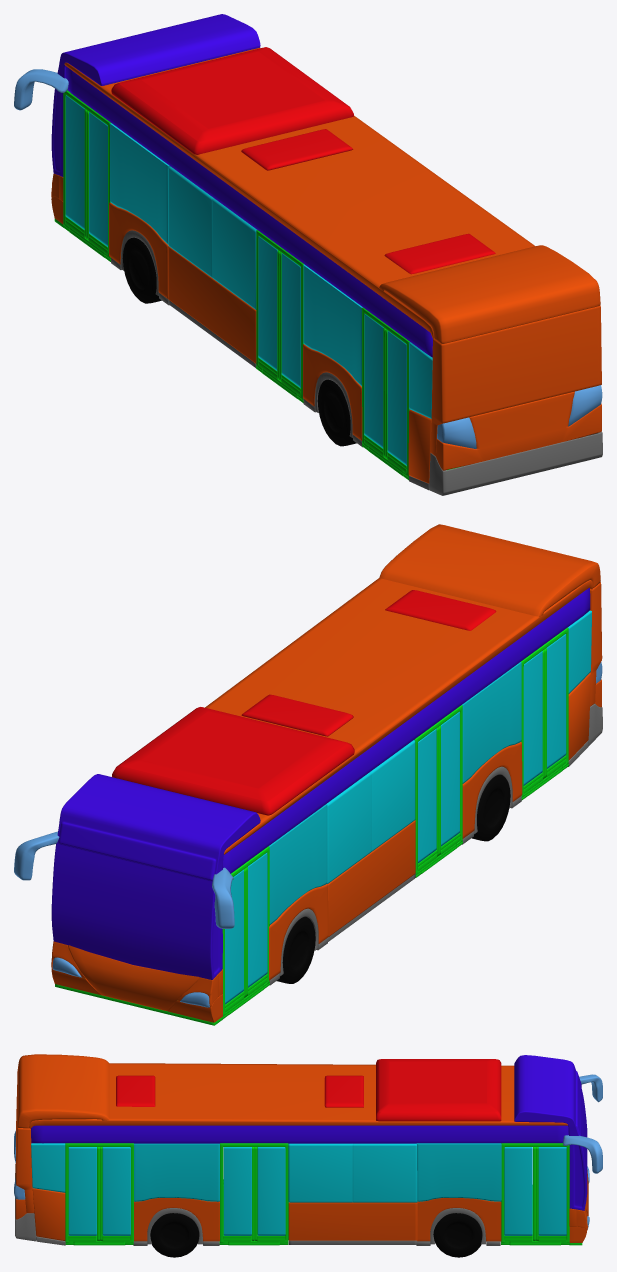
File: Bus.fbx
3 renders of one model, top to bottom at view 1: azimuth 30°, elevation 25°; view 2: azimuth 150°, elevation 25°; view 3: azimuth 270°, elevation 25°, orthographic. The views are drawn at different scales.
Parts seen in each view (by area): view 1: Cube.022-, Cube.023, Cube.010-, Cube.012-, Cube, Cube.036, Cube.061-, Cube.00-, Cube.021, Cube.006, Cube.011-, Cube.034 (+20 smaller); view 2: Cube.036, Cube.022-, Cube.023, Cube.012-, Cube, Cube.00-, Cube.006, Cube.021, Cube.033-, Cube.003, Cube.034, Cube.031 (+21 smaller); view 3: Cube.022-, Cube, Cube.023, Cube.012-, Cube.036, Cube.00-, Cube.006, Cube.021, Cube.034, Cube.003, Cube.013, Cube.040 (+23 smaller).
Boxes of the visible parts, box(x1,y1,x2,y2) form: Cube.022-: box(64, 47, 535, 338); Cube.023: box(111, 47, 353, 154); Cube.010-: box(430, 305, 601, 456); Cube.012-: box(379, 245, 600, 343); Cube: box(66, 66, 432, 357); Cube.036: box(51, 14, 260, 176); Cube.061-: box(436, 391, 601, 470); Cube.00-: box(168, 246, 256, 363); Cube.021: box(109, 123, 169, 244); Cube.006: box(303, 264, 362, 386); Cube.011-: box(429, 432, 602, 495); Cube.034: box(168, 166, 213, 277); Cube.036: box(51, 774, 260, 979); Cube.022-: box(205, 577, 593, 854); Cube.023: box(112, 707, 354, 815); Cube.012-: box(379, 524, 600, 616); Cube: box(223, 587, 590, 873); Cube.00-: box(327, 820, 415, 936); Cube.006: box(461, 662, 521, 783); Cube.021: box(269, 804, 327, 924); Cube.033-: box(68, 945, 199, 1010); Cube.003: box(370, 740, 415, 851); Cube.034: box(327, 772, 371, 883); Cube.031: box(241, 694, 353, 736); Cube.022-: box(29, 1063, 567, 1128); Cube: box(31, 1125, 568, 1143); Cube.023: box(376, 1059, 501, 1121); Cube.012-: box(17, 1054, 109, 1128); Cube.036: box(514, 1055, 587, 1210); Cube.00-: box(288, 1202, 417, 1241); Cube.006: box(134, 1143, 219, 1201); Cube.021: box(416, 1143, 501, 1201); Cube.034: box(352, 1143, 417, 1202); Cube.003: box(288, 1143, 352, 1202); Cube.013: box(504, 1147, 532, 1235); Cube.040: box(257, 1147, 285, 1235).
Size of the model in its own units: 187 by 165 by 593.
